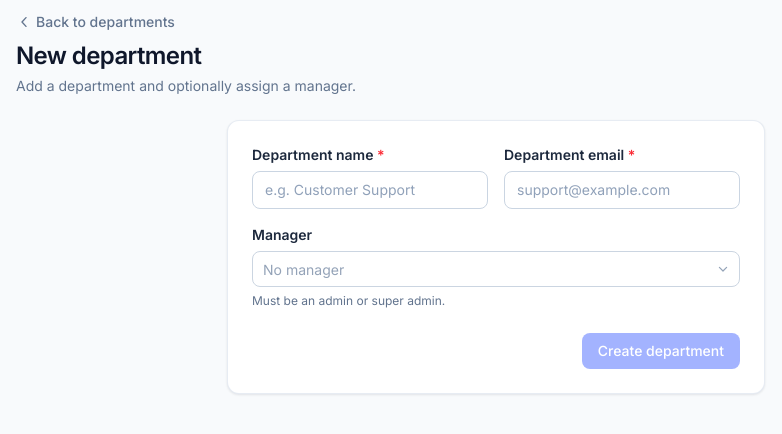
Test: CreateDepartmentPage › validates the name and email on blur, not before, and clears live once fixed
Type "S" into the field labelled "Department name *" at (370, 190), box [252, 171, 488, 209]
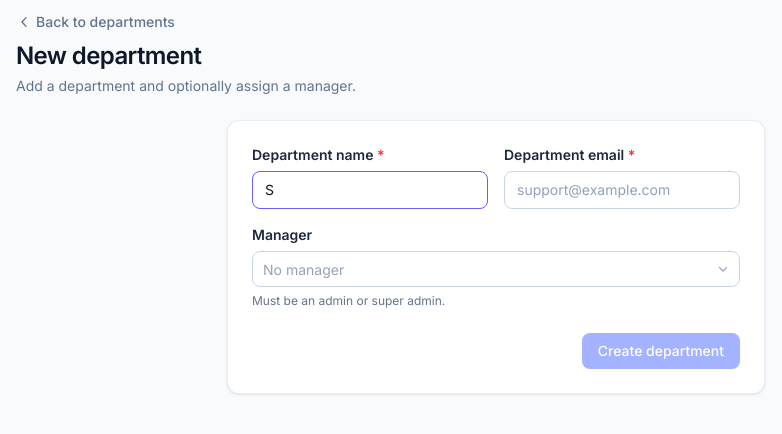
Expected: the text "Must be at least 2 characters" is not shown
Click the field labelled "Department email *" at (622, 190), box [504, 171, 740, 209]
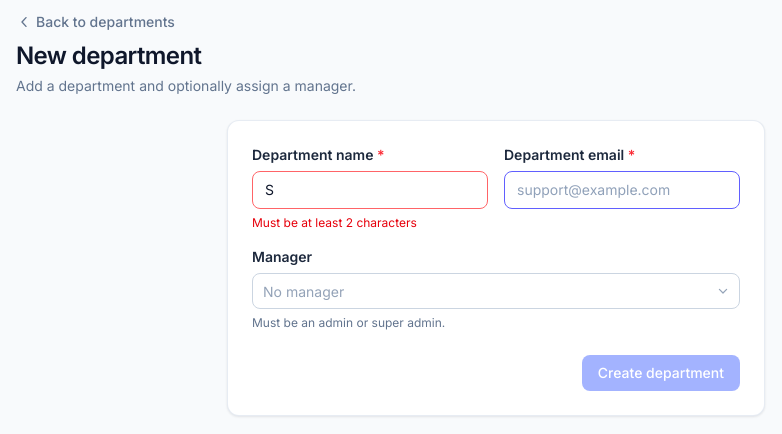
Now the text "Must be at least 2 characters" is shown, box [252, 215, 417, 230]
Click the field labelled "Department name *" at (370, 190), box [252, 171, 488, 209]
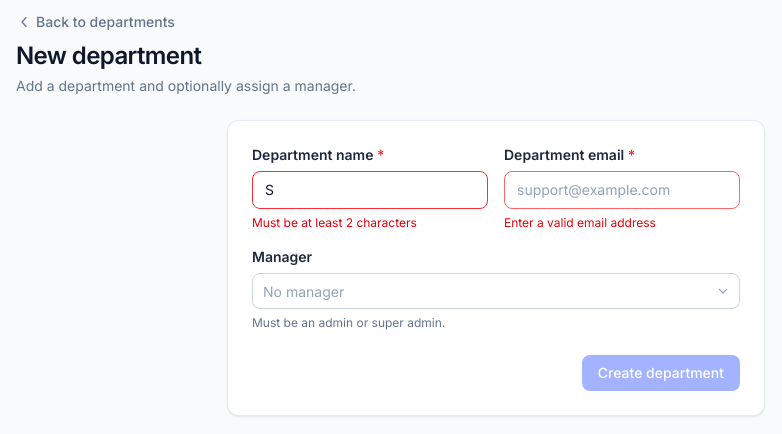
Now the text "Enter a valid email address" is shown, box [504, 215, 656, 230]
Type "ales" into the field labelled "Department name *" at (370, 190), box [252, 171, 488, 209]
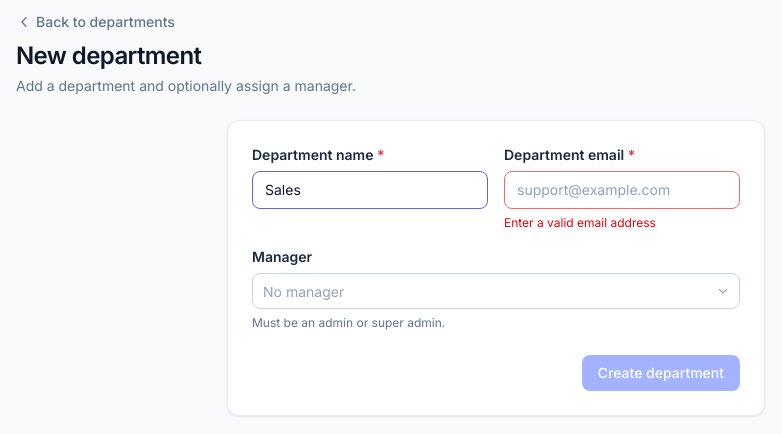
Now the text "Must be at least 2 characters" is gone
Type "sales@example.com" into the field labelled "Department email *" at (622, 190), box [504, 171, 740, 209]
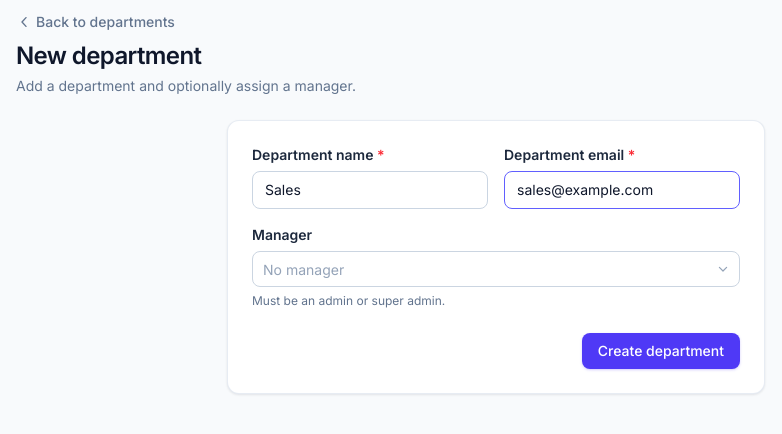
Now the text "Enter a valid email address" is gone
